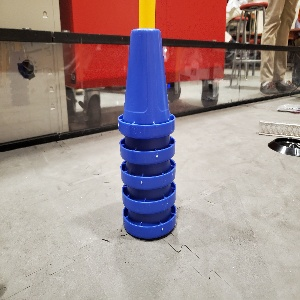Blue_5: (117, 27, 176, 240)
